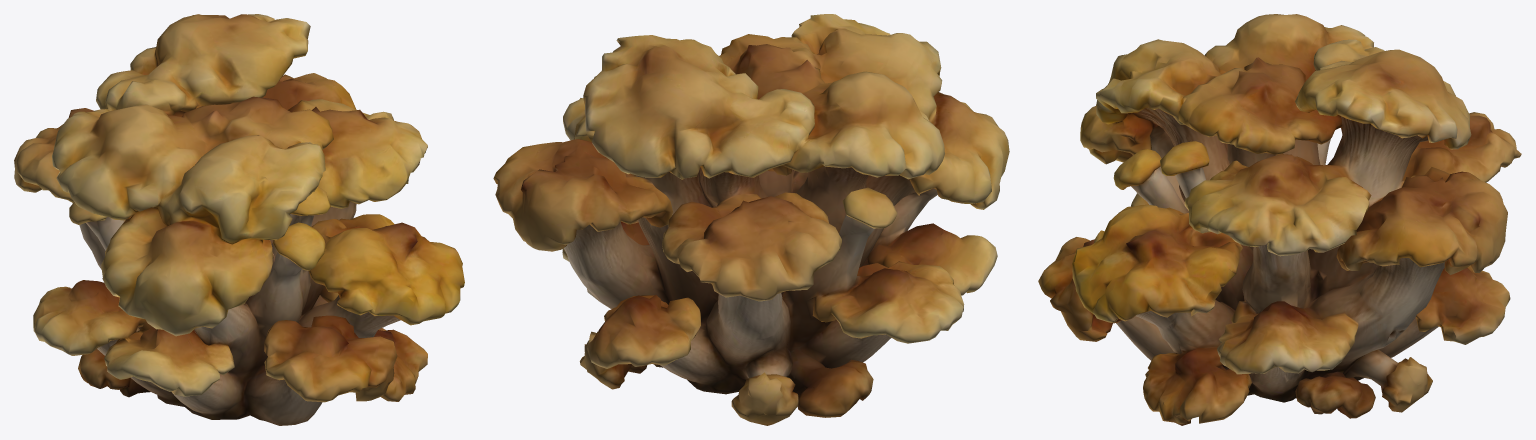
The model's file is fungus_cluster.glb.
3 renders of one model, left to right at view 1: azimuth 30°, elevation 25°; view 2: azimuth 150°, elevation 25°; view 3: azimuth 270°, elevation 25°, orthographic. The views are drawn at different scales.
Parts seen in each view (by area): view 1: tripo_node_427bd866-a26f-4ec2-a460-b1d50ecad12d; view 2: tripo_node_427bd866-a26f-4ec2-a460-b1d50ecad12d; view 3: tripo_node_427bd866-a26f-4ec2-a460-b1d50ecad12d.
Part boxes in pixels (box(x1,y1,x2,y2)): tripo_node_427bd866-a26f-4ec2-a460-b1d50ecad12d: box(14, 14, 464, 425); tripo_node_427bd866-a26f-4ec2-a460-b1d50ecad12d: box(493, 14, 1009, 425); tripo_node_427bd866-a26f-4ec2-a460-b1d50ecad12d: box(1038, 14, 1521, 425).
Size of the model in its own units: 0.2416 by 0.2 by 0.2662.
Materials: 1 (1 with a texture image).
